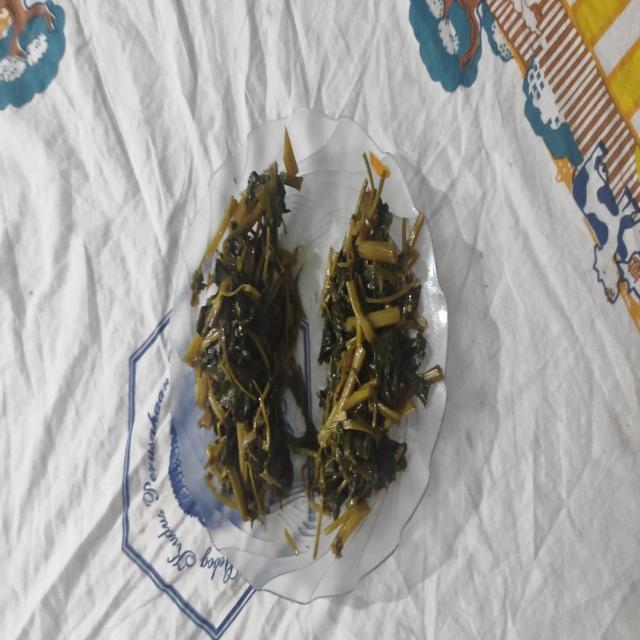tumis_kangkung: (310, 153, 434, 558), (195, 162, 308, 518)
